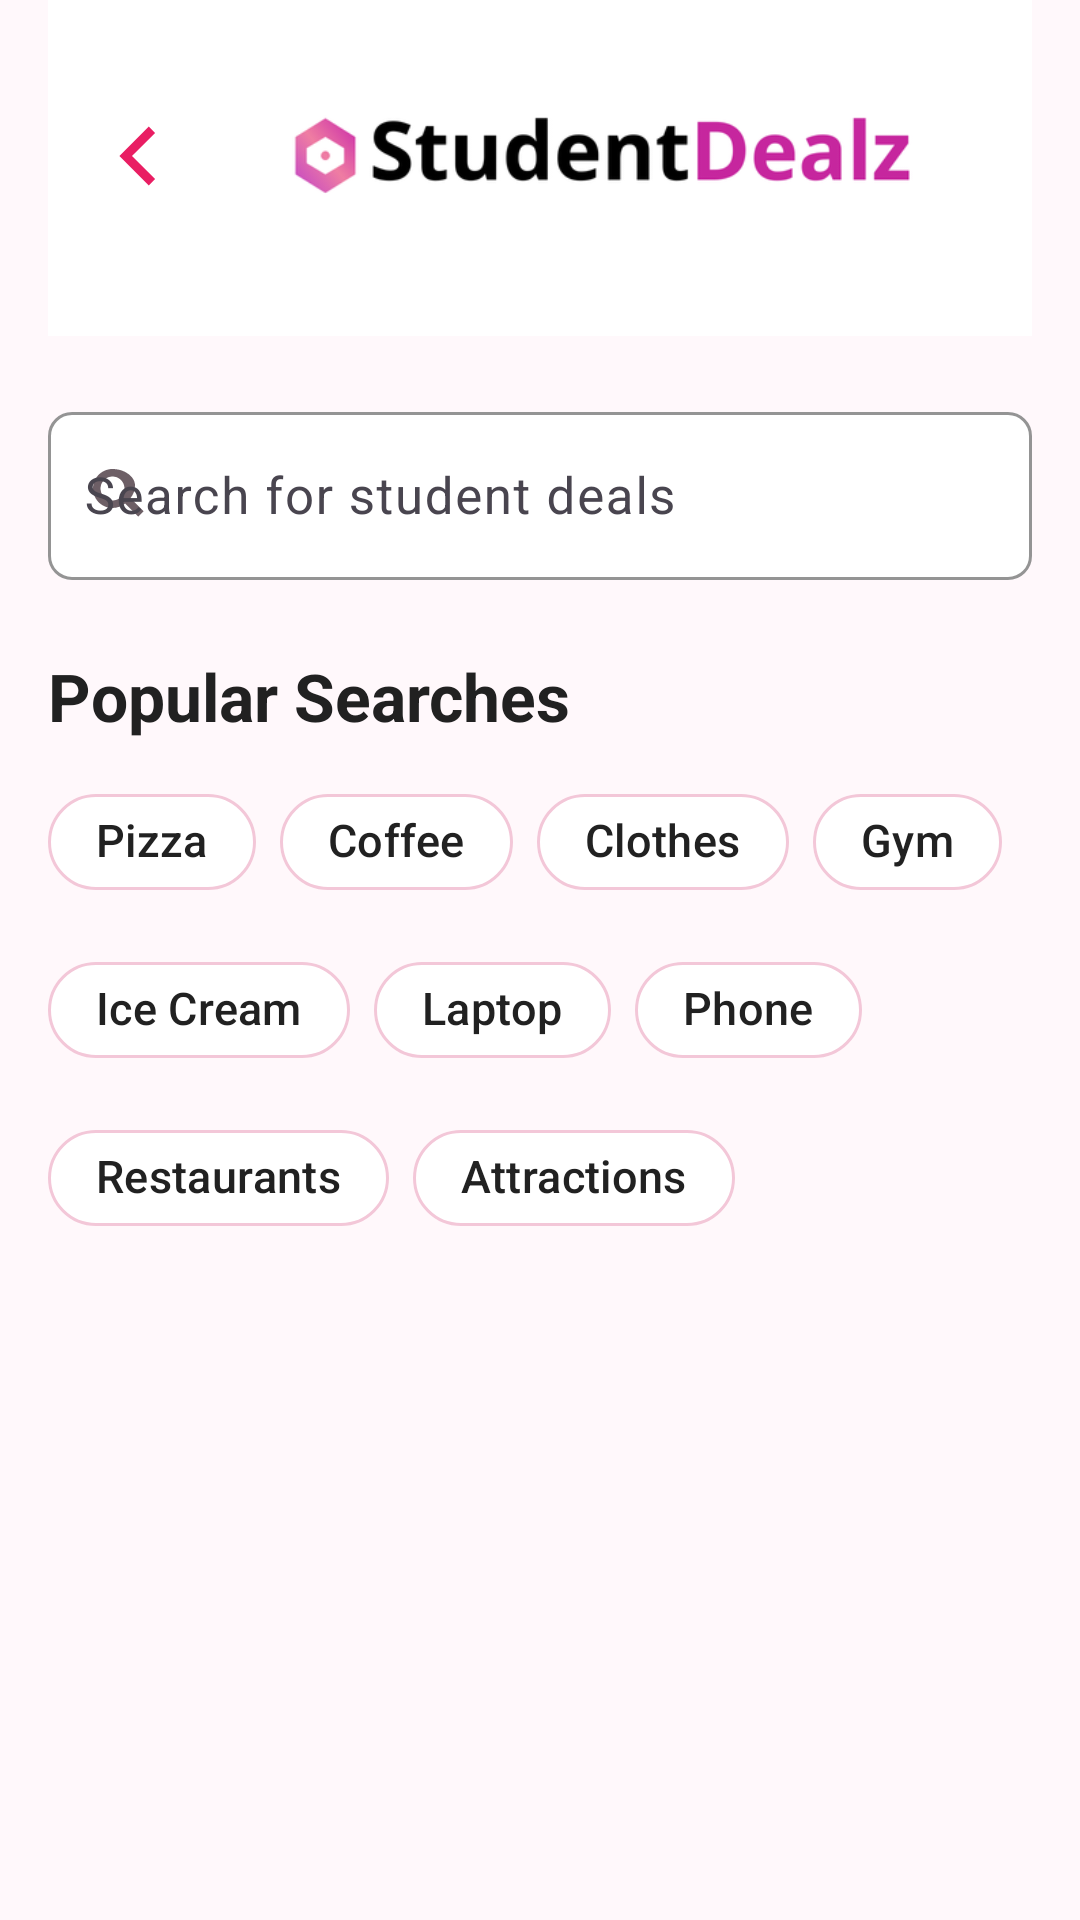

Where to tap for icons on this 1080*1920 app screen, as point (x, y):
Back: point (137, 156)
